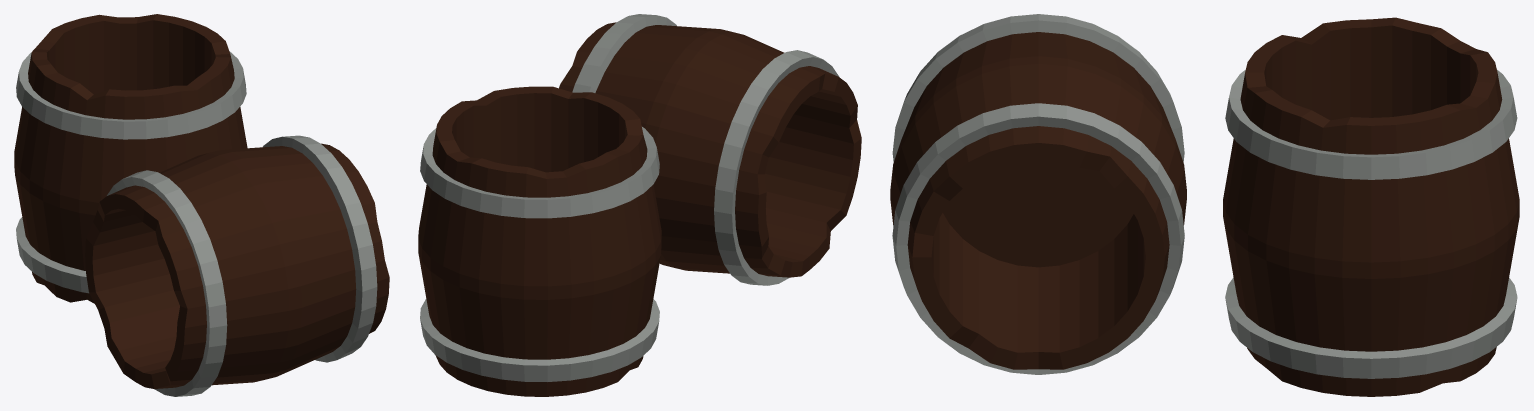
Rendered from Barrel.fbx.
The picture shows the model from 3 angles, left to right: view 1: azimuth 30°, elevation 25°; view 2: azimuth 150°, elevation 25°; view 3: azimuth 270°, elevation 25°; orthographic projection. The views are drawn at different scales.
Parts seen in each view (by area): view 1: Cylinder.002, Cylinder, Cylinder.003, Cylinder.001; view 2: Cylinder, Cylinder.002, Cylinder.001, Cylinder.003; view 3: Cylinder, Cylinder.002, Cylinder.003, Cylinder.001.
Part boxes in pixels (box(x1,y1,x2,y2)): Cylinder.002: box(85, 143, 389, 388); Cylinder: box(14, 14, 247, 303); Cylinder.003: box(107, 135, 377, 396); Cylinder.001: box(16, 51, 246, 293); Cylinder: box(418, 86, 661, 396); Cylinder.002: box(559, 22, 861, 277); Cylinder.001: box(420, 127, 659, 381); Cylinder.003: box(572, 14, 839, 285); Cylinder: box(1223, 17, 1519, 396); Cylinder.002: box(890, 32, 1186, 369); Cylinder.003: box(892, 14, 1184, 374); Cylinder.001: box(1225, 69, 1517, 378).
Size of the model in its own units: 302 by 271 by 563.
